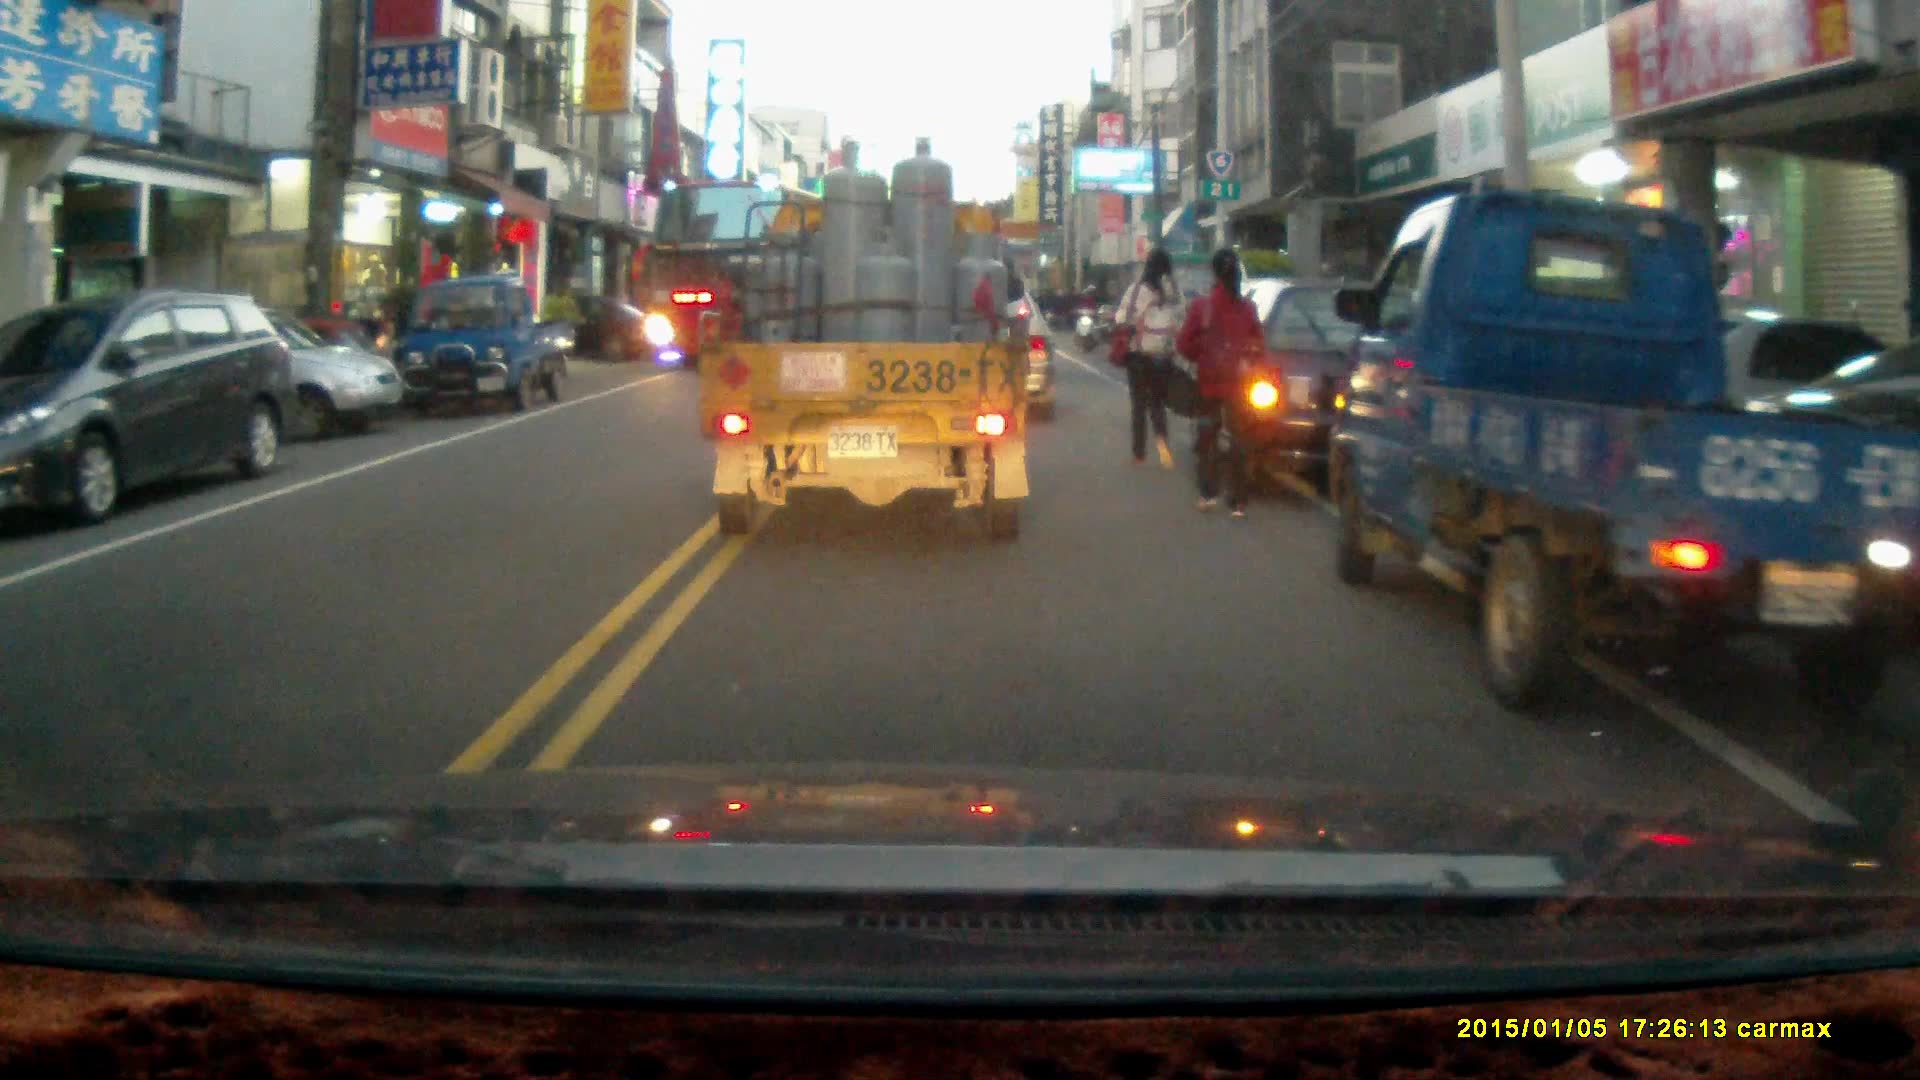pedestrian: (1172, 250, 1279, 521), (1111, 248, 1189, 474)
rider: (1074, 279, 1109, 350)
vehicle: (1333, 183, 1920, 726), (697, 129, 1038, 543), (2, 286, 294, 526), (1200, 277, 1488, 511), (90, 299, 411, 446), (640, 176, 876, 373), (400, 276, 568, 413)
